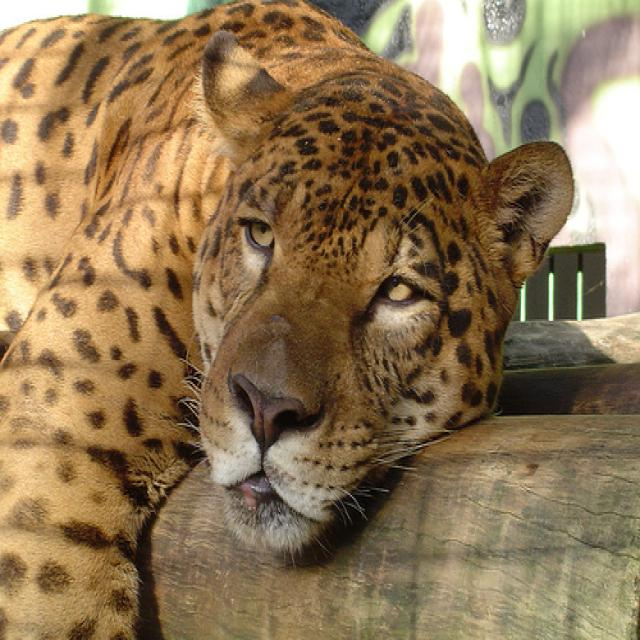Leopard: (0, 0, 579, 637)
